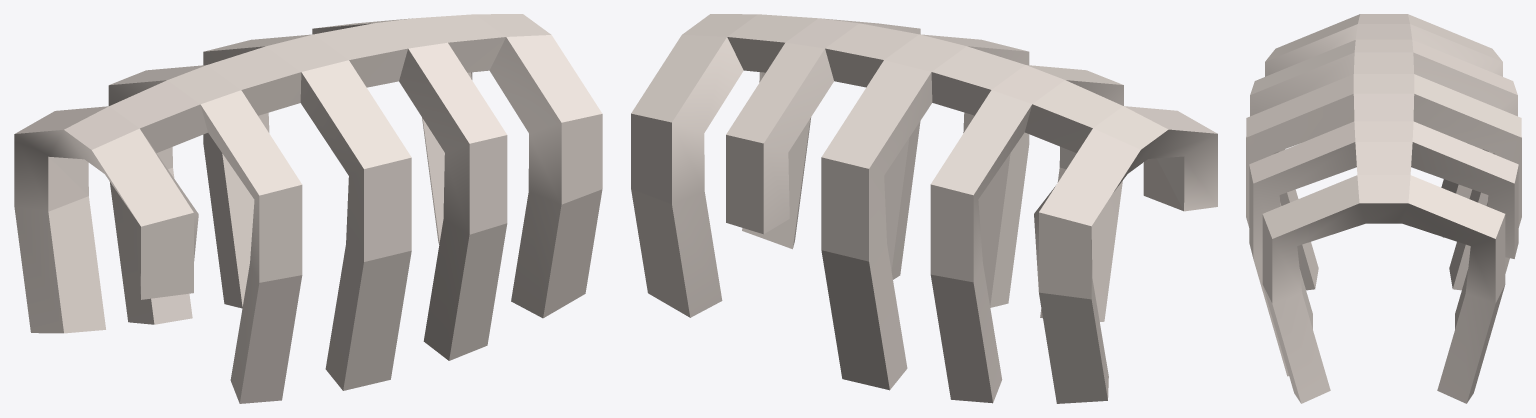
The model's file is Animal Bone 01.FBX.
The picture shows the model from 3 angles, left to right: view 1: azimuth 30°, elevation 25°; view 2: azimuth 150°, elevation 25°; view 3: azimuth 270°, elevation 25°; orthographic projection. The views are drawn at different scales.
Parts seen in each view (by area): view 1: Animal Bone 01; view 2: Animal Bone 01; view 3: Animal Bone 01.
Boxes of the visible parts, <box> form: Animal Bone 01: <box>14,14,602,403</box>; Animal Bone 01: <box>631,14,1217,403</box>; Animal Bone 01: <box>1246,14,1521,403</box>.
Size of the model in its own units: 78.13 by 46.94 by 47.36.
